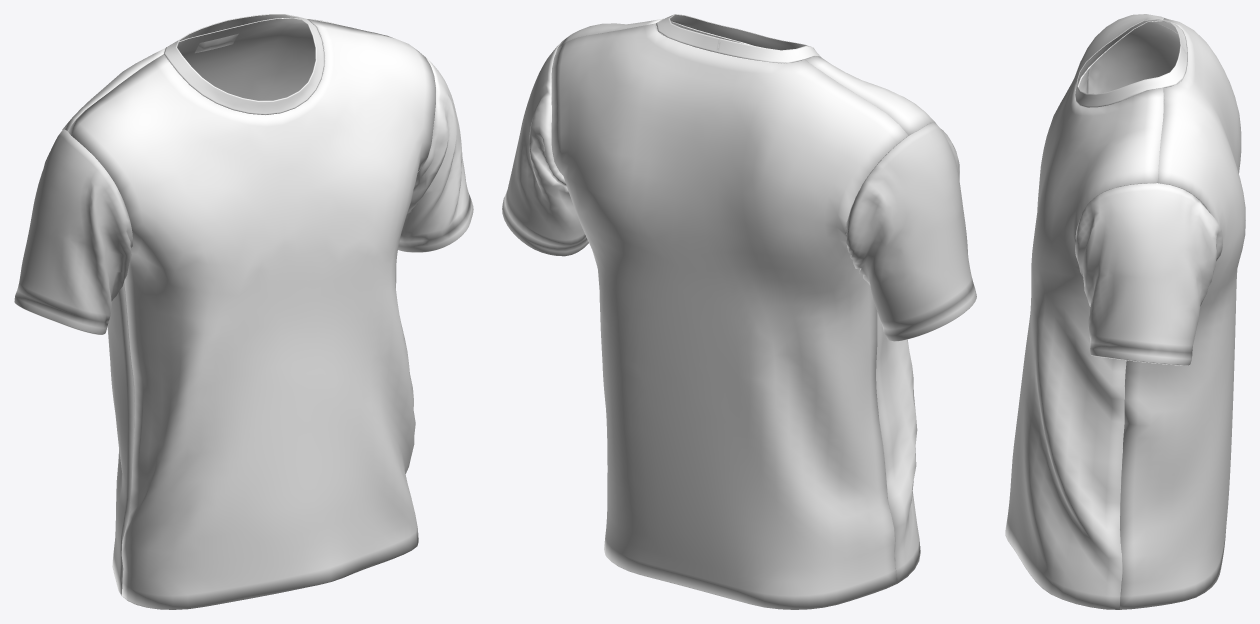
Rendered from Jersey.glb.
3 renders of one model, left to right at view 1: azimuth 30°, elevation 25°; view 2: azimuth 150°, elevation 25°; view 3: azimuth 270°, elevation 25°, orthographic. The views are drawn at different scales.
Visible parts, largest first — view 1: Front, Right Sleeve, Back Inner, Left Sleeve, Back, Collar, Collar.001; view 2: Back, Right Sleeve, Front, Left Sleeve, Collar, Collar.001; view 3: Front, Back, Left Sleeve, Right Sleeve.002, Collar, Collar.001.
Part boxes in pixels (<box>): Front: <box>67,19,435,609</box>; Right Sleeve: <box>14,129,132,334</box>; Back Inner: <box>177,18,315,100</box>; Left Sleeve: <box>398,57,473,252</box>; Back: <box>62,17,348,595</box>; Collar: <box>164,14,324,114</box>; Collar.001: <box>179,14,298,41</box>; Back: <box>551,23,908,609</box>; Right Sleeve: <box>846,122,976,341</box>; Front: <box>558,18,935,583</box>; Left Sleeve: <box>502,43,588,256</box>; Collar: <box>656,14,821,62</box>; Collar.001: <box>670,14,806,50</box>; Front: <box>1005,14,1163,609</box>; Back: <box>1119,17,1245,609</box>; Left Sleeve: <box>1075,183,1222,365</box>; Right Sleeve.002: <box>1078,22,1180,93</box>; Collar: <box>1075,19,1187,107</box>; Collar.001: <box>1077,19,1169,83</box>.
Bounding box in the file's own units: 0.6828 × 0.7611 × 0.3294.
11 materials, 4 textured.
